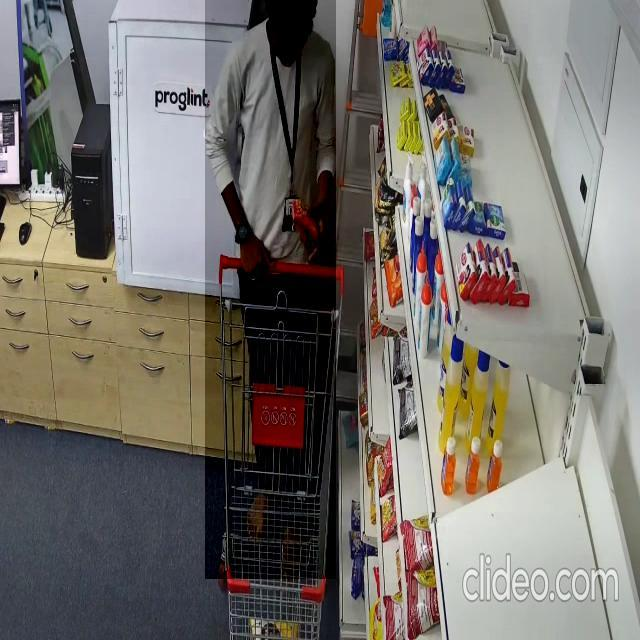normal: (205, 0, 336, 579)
